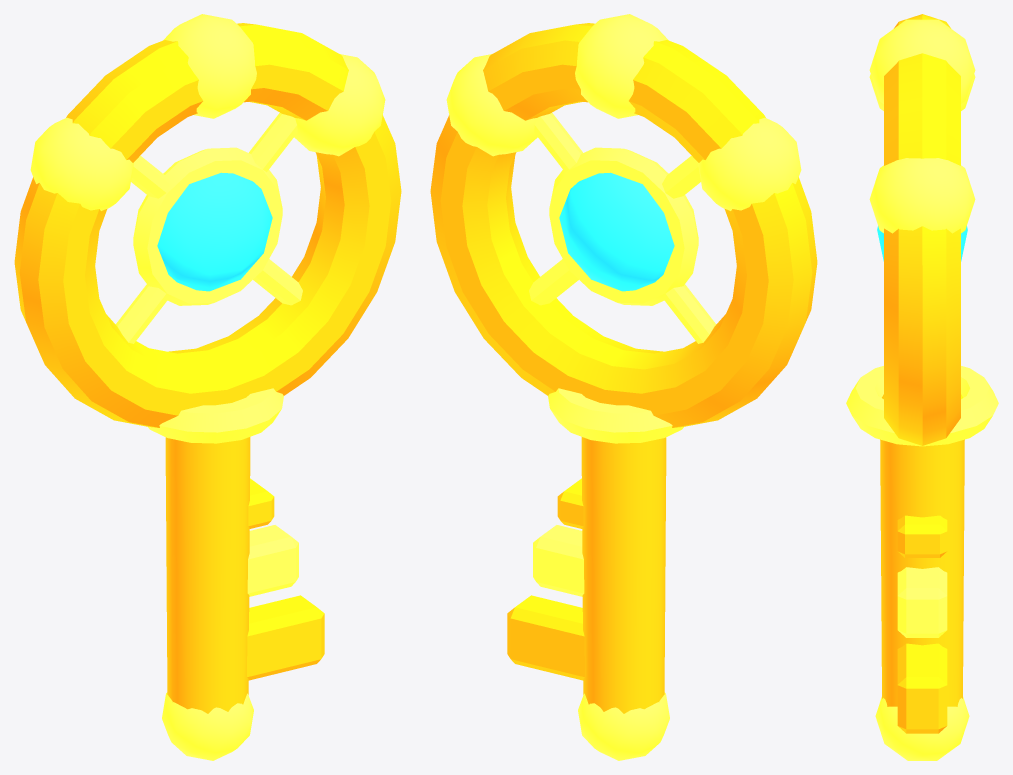
File: powerup_llave.glb
The picture shows the model from 3 angles, left to right: view 1: azimuth 30°, elevation 25°; view 2: azimuth 150°, elevation 25°; view 3: azimuth 270°, elevation 25°; orthographic projection.
Parts seen in each view (by area): view 1: PowerUp_Llave; view 2: PowerUp_Llave; view 3: PowerUp_Llave.
Part boxes in pixels (x1,y1,x2,y2): PowerUp_Llave: [14, 14, 401, 760]; PowerUp_Llave: [430, 14, 817, 760]; PowerUp_Llave: [846, 14, 998, 760].
Bounding box in the file's own units: 0.59 × 1.11 × 0.208.
